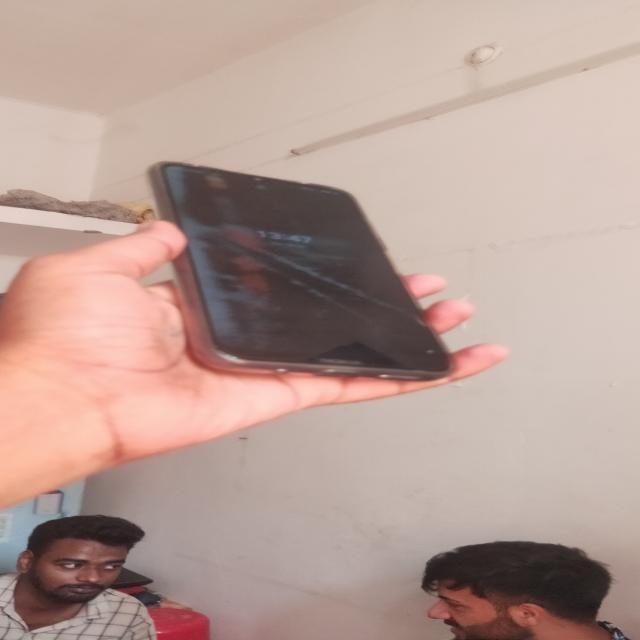Phone: (144, 156, 461, 386)
